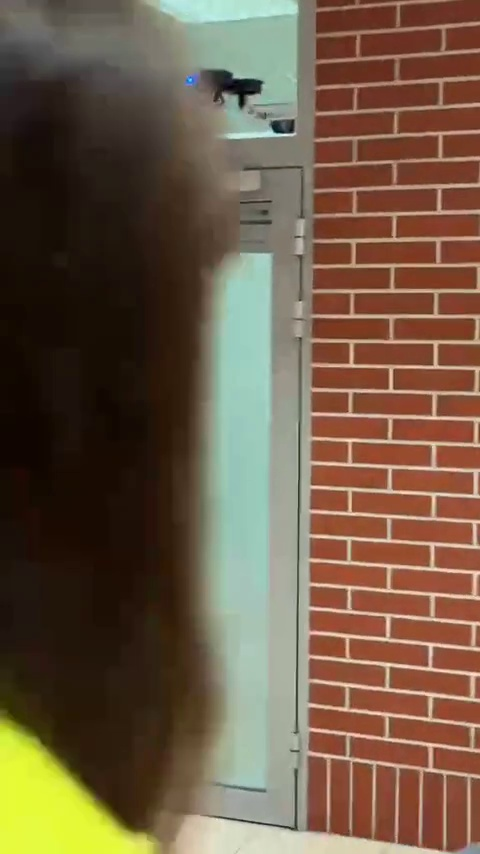drone: (174, 69, 262, 106)
